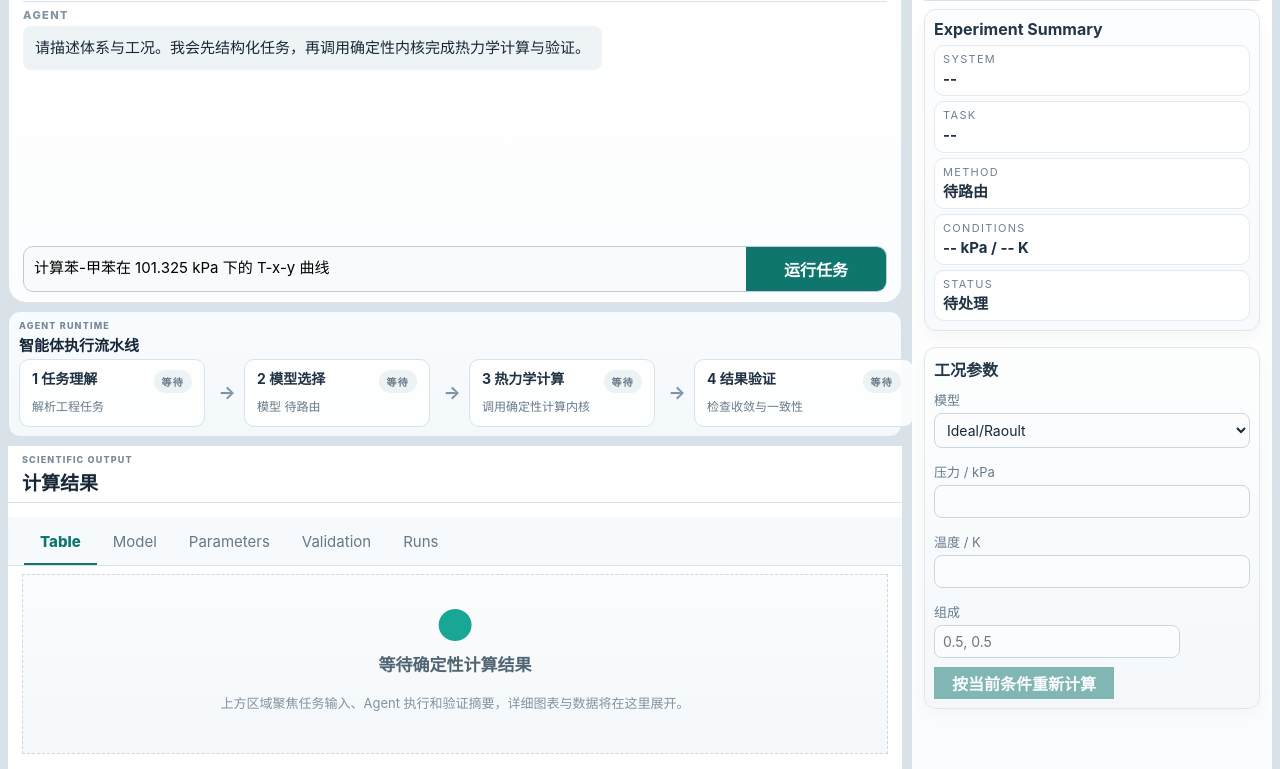
Test: Workbench › shows model applicability feedback in the model tab
The width and height of the screenshot is (1280, 769).
What coordinates should you click on to do the following:
click the button "运行任务"
I would click on:
 (816, 269)
Its box is [746,247,886,291].
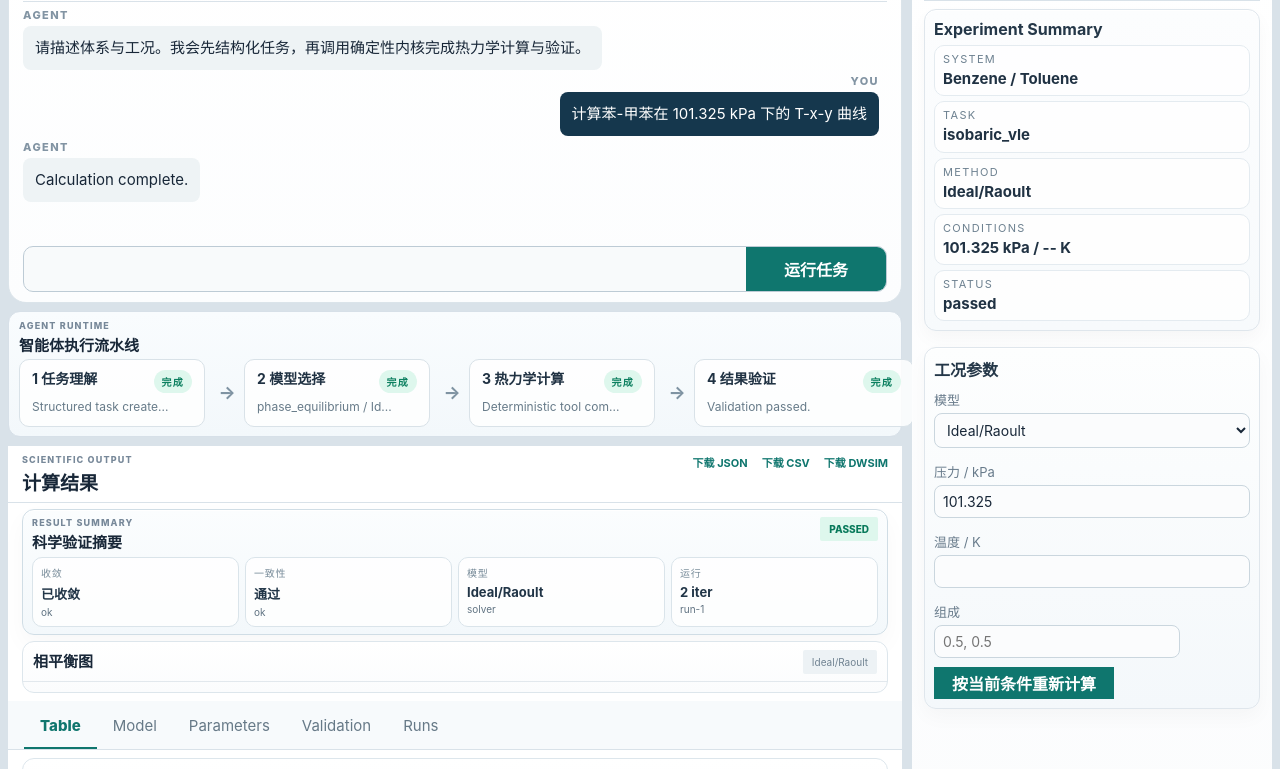
Now the text "Calculation complete." is shown, box [35,168,188,192]
What coordinates should you click on to do the following:
click the button "Model"
I would click on:
 (135, 725)
Its box is [97,701,173,749].
(page scrolled)
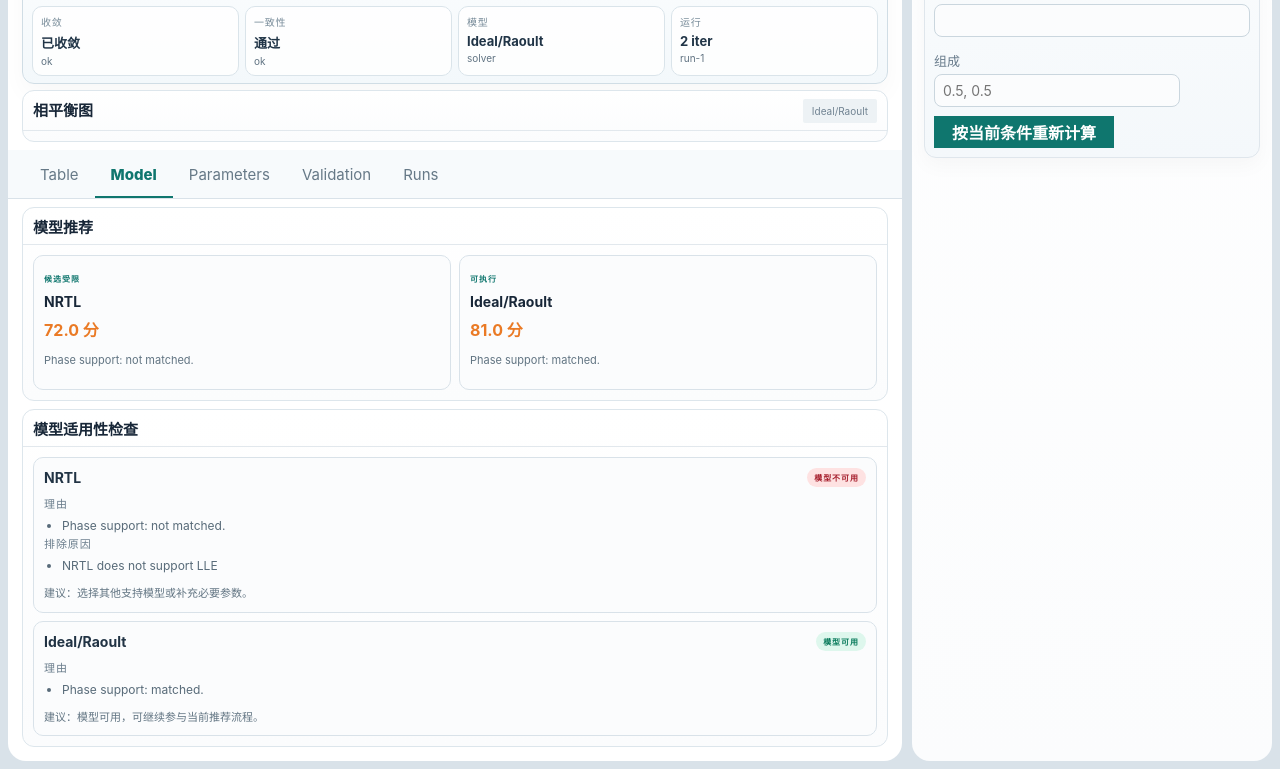
Now the heading "NRTL" is shown, box [44,293,81,310]
Now the list item "NRTL does not support LLE" is shown, box [62,558,218,573]
Now the text "模型不可用" is shown, box [807,468,866,487]
